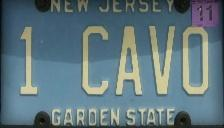0: (180, 24, 211, 96)
1: (16, 24, 43, 96)
A: (113, 24, 146, 97)
C: (79, 23, 111, 96)
V: (147, 23, 179, 97)
